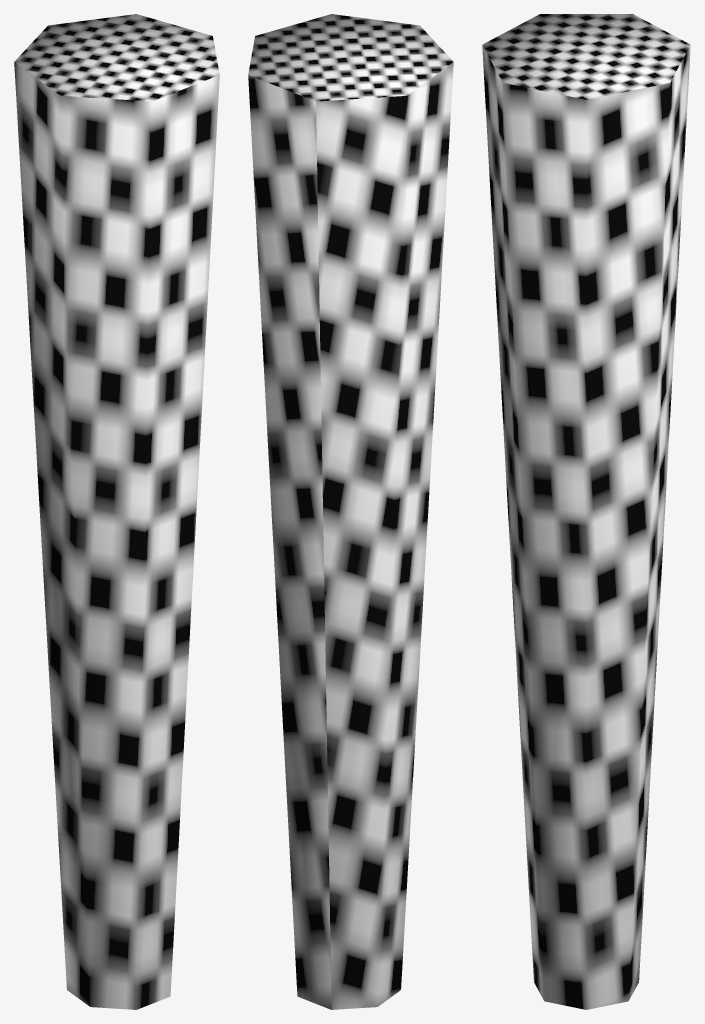
The model's file is Separador_01.obj.
3 renders of one model, left to right at view 1: azimuth 30°, elevation 25°; view 2: azimuth 150°, elevation 25°; view 3: azimuth 270°, elevation 25°, orthographic.
Visible parts, largest first — view 1: wew; view 2: wew; view 3: wew.
Part boxes in pixels (bbox=[...]): wew: bbox=[14, 14, 219, 1009]; wew: bbox=[248, 14, 453, 1009]; wew: bbox=[482, 14, 690, 1009].
Size of the model in its own units: 3.67 by 18.59 by 3.76.
1 material, 1 textured.
